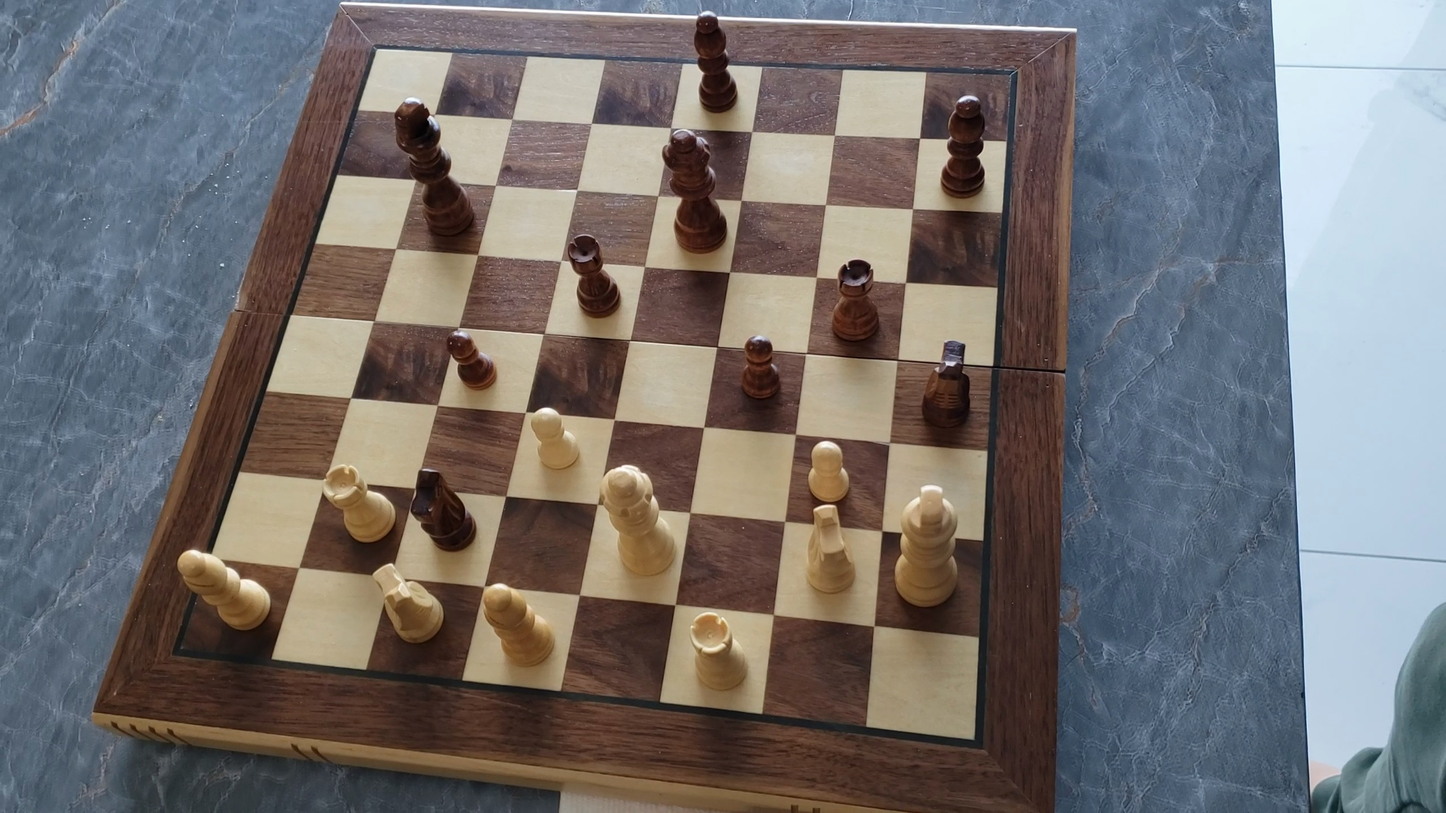black-bishop: (938, 90, 988, 199), (690, 6, 740, 113)
black-king: (374, 92, 485, 249)
black-knight: (916, 332, 986, 430), (409, 466, 479, 552)
black-pawn: (442, 324, 499, 391), (737, 331, 782, 403)
black-queen: (644, 124, 745, 259)
black-rook: (563, 231, 622, 319), (828, 256, 881, 345)
white-bishop: (176, 548, 274, 638), (476, 579, 560, 671)
white-king: (891, 480, 963, 616)
white-knight: (374, 559, 456, 651), (801, 501, 859, 598)
white-pawn: (523, 403, 585, 473), (798, 437, 861, 504)
white-queen: (597, 463, 682, 585)
white-rook: (319, 461, 399, 548), (682, 606, 754, 697)
